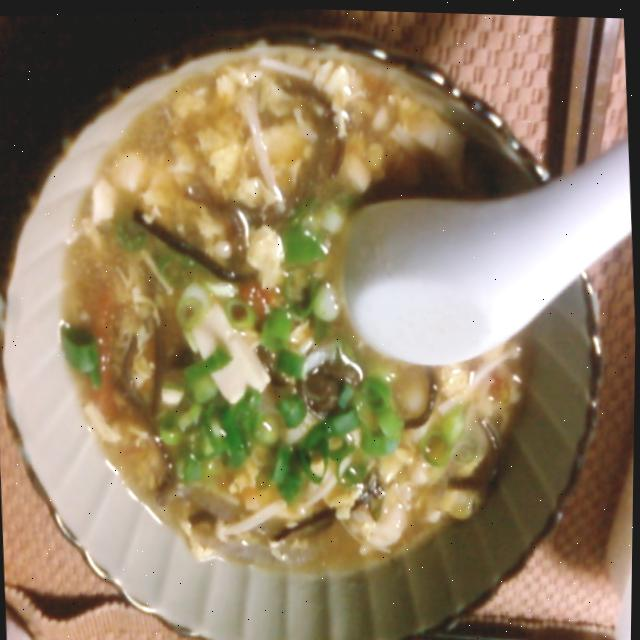汤锅炖物: (0, 16, 615, 640)
